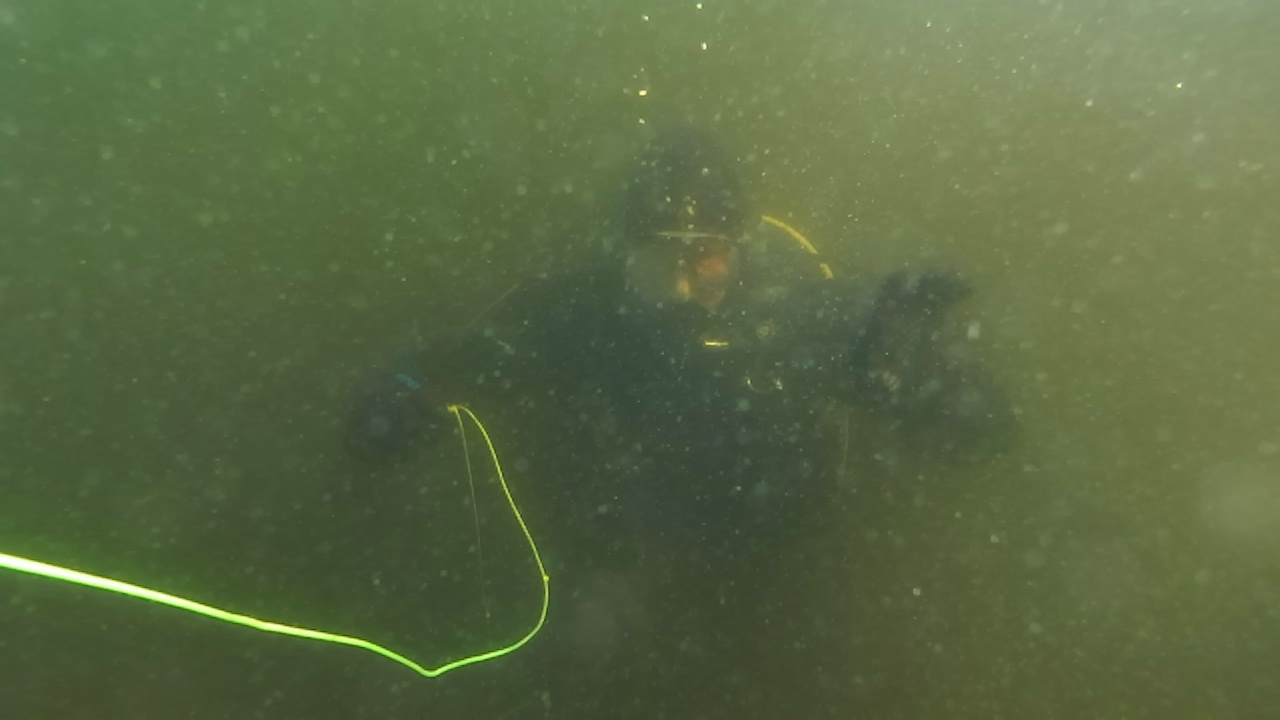Diver: (324, 118, 1024, 642)
Hand: (844, 262, 972, 456), (332, 360, 464, 492)
Head: (602, 144, 790, 376)
